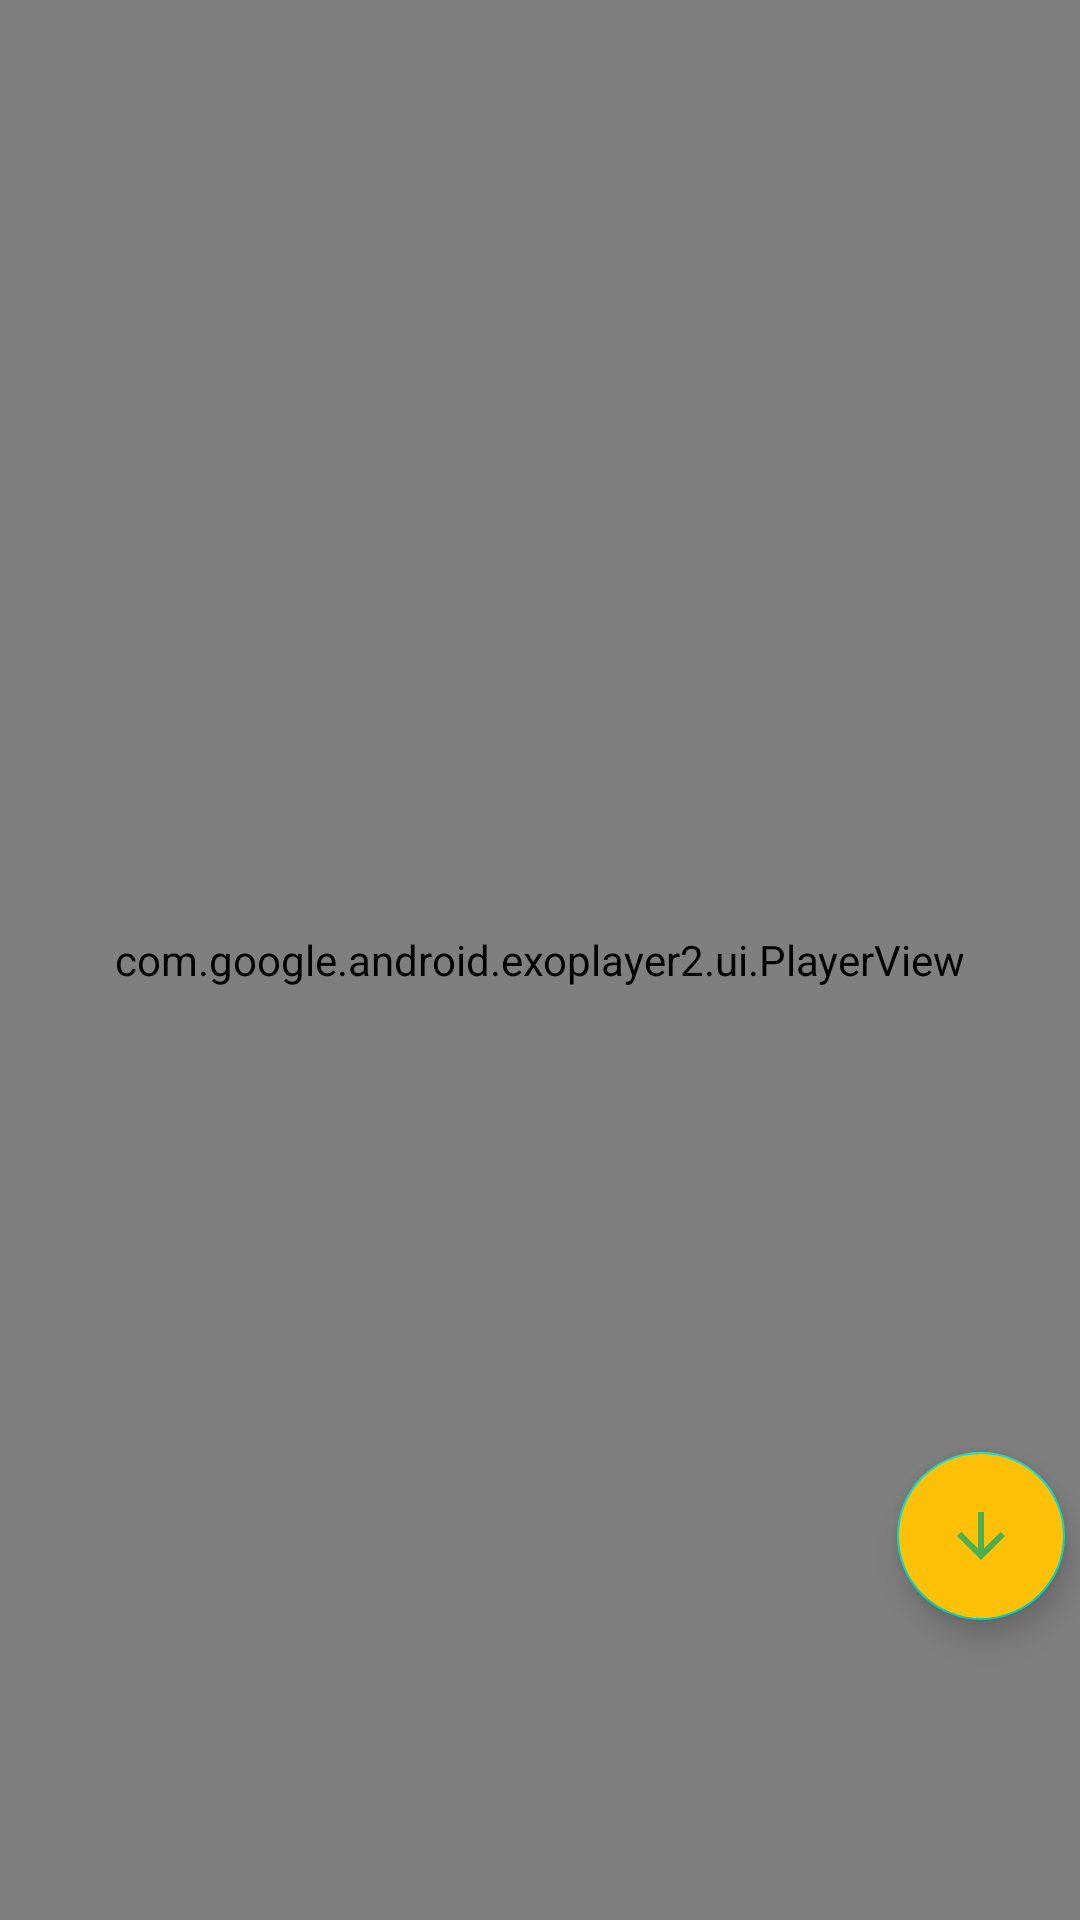

Screen size 1080px×1920px. Icon name, then its box in pixels as (x1, y1, x2, y2):
download arrow: (897, 1452, 1065, 1620)
